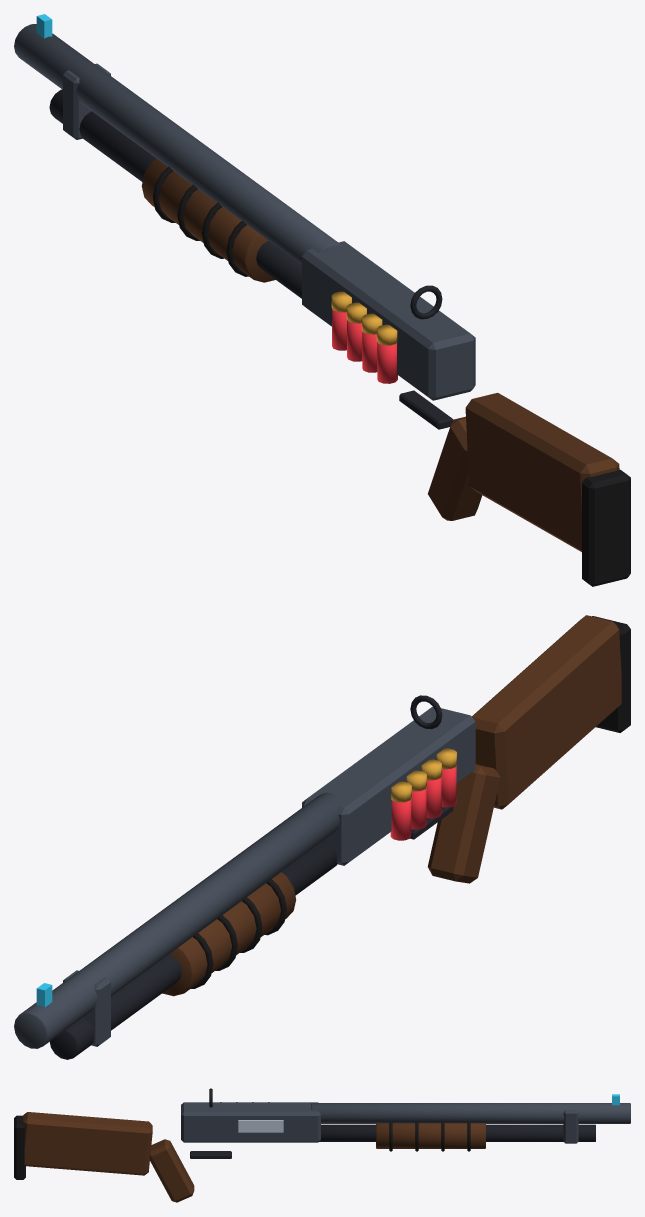
Rendered from gun_shotgun.obj.
3 renders of one model, top to bottom at view 1: azimuth 30°, elevation 25°; view 2: azimuth 150°, elevation 25°; view 3: azimuth 270°, elevation 25°, orthographic. The views are drawn at different scales.
Parts seen in each view (by area): view 1: Barrel, Stock, Receiver, Butt, Pump, TubeMag, Grip, Clamp, TrigGuard, ShellB_0; view 2: Stock, Barrel, Receiver, Grip, TubeMag, Pump, Butt, Clamp, ShellB_3, ShellB_2, ShellB_0, ShellB_1; view 3: Stock, Barrel, Receiver, TubeMag, Pump, Grip, Butt, Eject, Clamp, TrigGuard.
Boxes of the visible parts, left/top/right/bottom form: Barrel: left=14, top=24, right=343, bottom=264; Stock: left=465, top=392, right=619, bottom=551; Receiver: left=302, top=241, right=475, bottom=400; Butt: left=582, top=469, right=630, bottom=586; Pump: left=141, top=158, right=275, bottom=282; TubeMag: left=49, top=89, right=301, bottom=298; Grip: left=428, top=416, right=482, bottom=520; Clamp: left=63, top=63, right=110, bottom=139; TrigGuard: left=399, top=390, right=453, bottom=429; ShellB_0: left=377, top=342, right=397, bottom=383; Stock: left=472, top=615, right=621, bottom=809; Barrel: left=14, top=792, right=343, bottom=1048; Receiver: left=302, top=706, right=475, bottom=865; Grip: left=427, top=764, right=500, bottom=883; TubeMag: left=50, top=840, right=337, bottom=1059; Pump: left=162, top=872, right=296, bottom=996; Butt: left=592, top=616, right=630, bottom=732; Clamp: left=63, top=970, right=110, bottom=1046; ShellB_3: left=390, top=799, right=411, bottom=840; ShellB_2: left=411, top=787, right=426, bottom=829; ShellB_0: left=441, top=766, right=456, bottom=807; ShellB_1: left=426, top=777, right=441, bottom=818; Stock: left=23, top=1112, right=152, bottom=1175; Barrel: left=311, top=1103, right=630, bottom=1123; Receiver: left=181, top=1102, right=320, bottom=1142; TubeMag: left=319, top=1124, right=595, bottom=1141; Pump: left=376, top=1123, right=485, bottom=1148; Grip: left=149, top=1139, right=194, bottom=1202; Butt: left=14, top=1115, right=25, bottom=1179; Eject: left=238, top=1120, right=283, bottom=1132; Clamp: left=563, top=1110, right=578, bottom=1143; TrigGuard: left=190, top=1151, right=231, bottom=1158.
Bounding box in the file's own units: 0.0845 × 0.2441 × 1.23.
